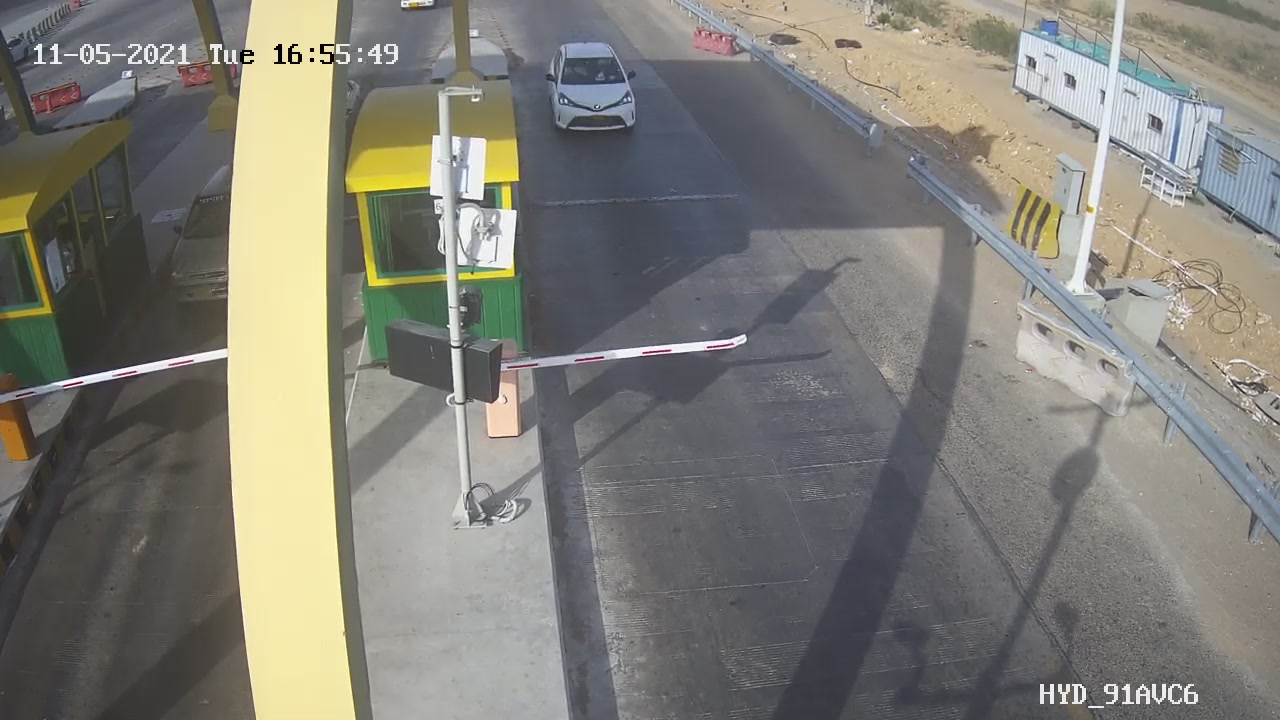F1: (533, 31, 660, 152)
